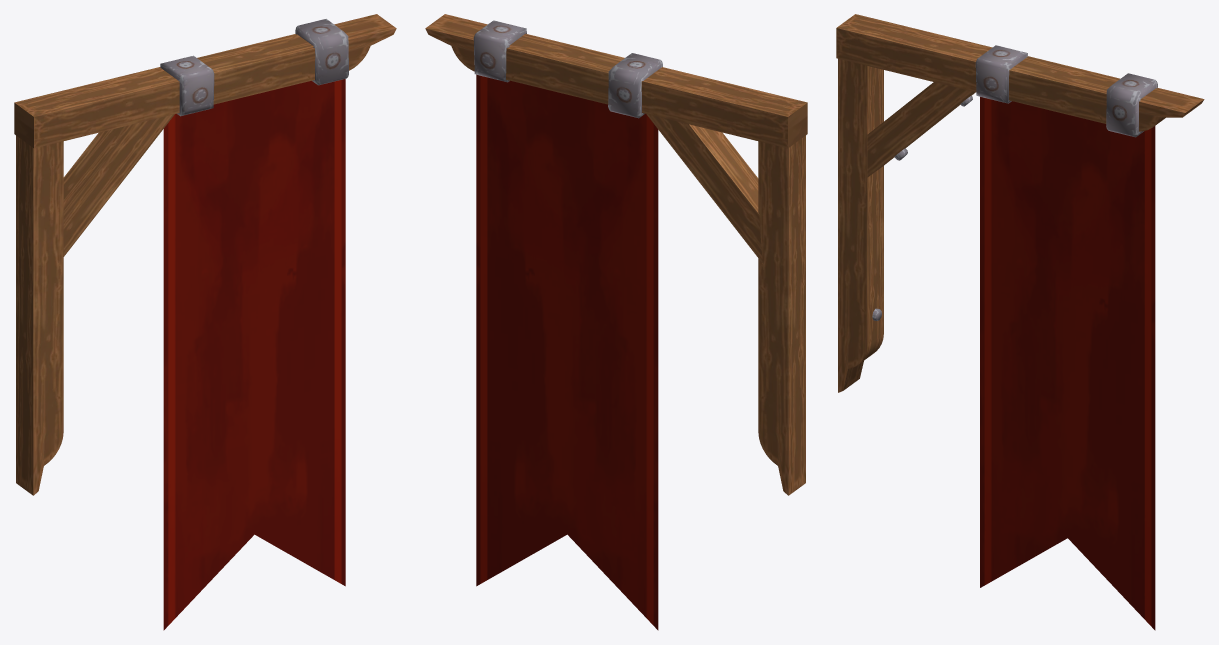
Rendered from Banner_1.gltf.
The picture shows the model from 3 angles, left to right: view 1: azimuth 30°, elevation 25°; view 2: azimuth 150°, elevation 25°; view 3: azimuth 330°, elevation 25°; orthographic projection. The views are drawn at different scales.
Parts seen in each view (by area): view 1: Banner_1; view 2: Banner_1; view 3: Banner_1.
Boxes of the visible parts, left/top/right/bottom form: Banner_1: left=14, top=14, right=396, bottom=630; Banner_1: left=425, top=14, right=807, bottom=630; Banner_1: left=836, top=14, right=1204, bottom=630.
Size of the model in its own units: 1.61 by 2.39 by 0.1906.
Materials: 3 (3 with a texture image).
